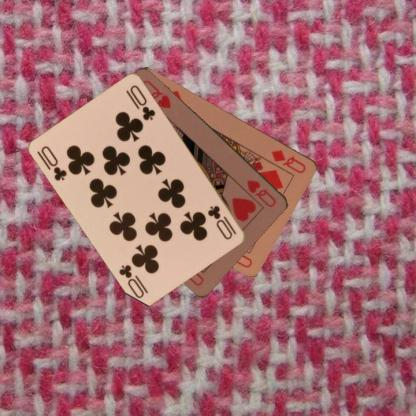10c: (205, 203, 238, 241), (38, 143, 68, 183)
Qd: (269, 147, 307, 174)
Qh: (244, 176, 278, 209)
